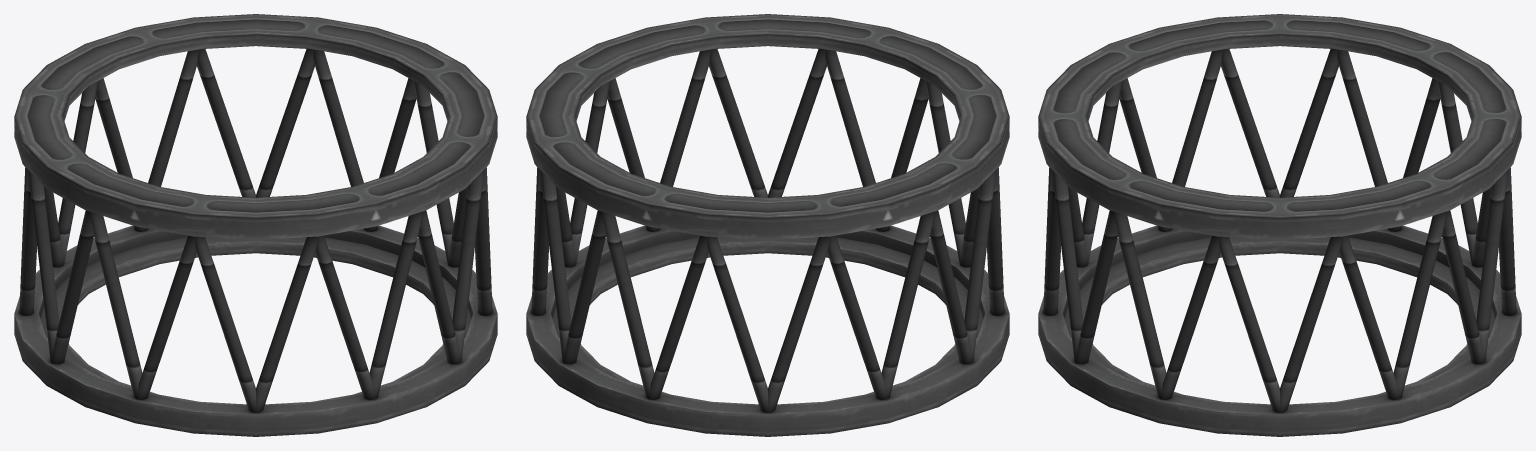
Rendered from castor_truss_decoupler_s1_1.obj.
3 renders of one model, left to right at view 1: azimuth 30°, elevation 25°; view 2: azimuth 150°, elevation 25°; view 3: azimuth 270°, elevation 25°, orthographic.
Visible parts, largest first — view 1: castor_truss_decoupler_s1_1; view 2: castor_truss_decoupler_s1_1; view 3: castor_truss_decoupler_s1_1.
Boxes of the visible parts, box(x1,y1,x2,y2) form: castor_truss_decoupler_s1_1: box(14, 14, 497, 436); castor_truss_decoupler_s1_1: box(526, 14, 1009, 436); castor_truss_decoupler_s1_1: box(1038, 14, 1521, 436).
Bounding box in the file's own units: 1.25 × 0.625 × 1.25.
